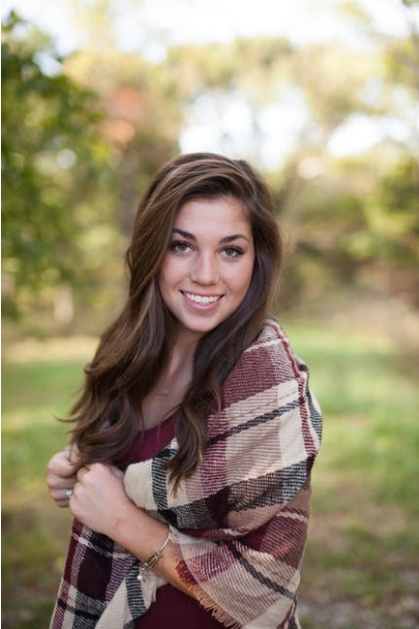face: (160, 199, 253, 333)
